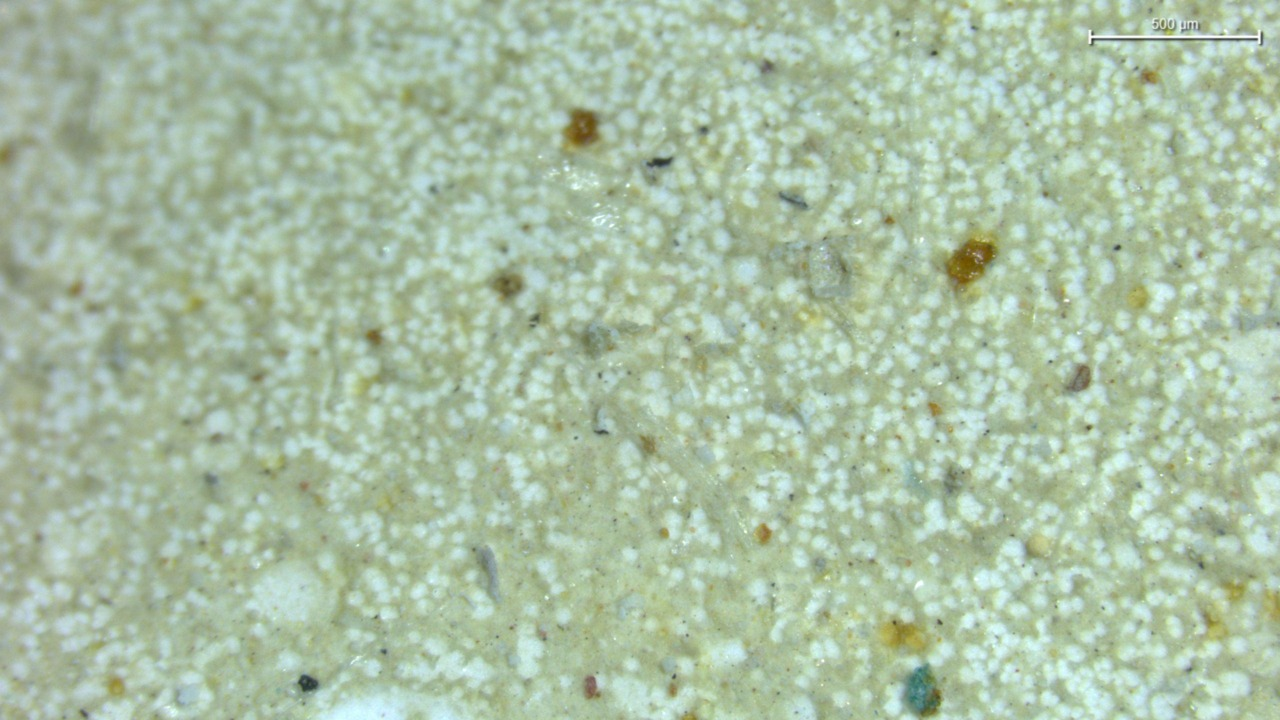microplastic_fragment: (771, 235, 857, 303)
